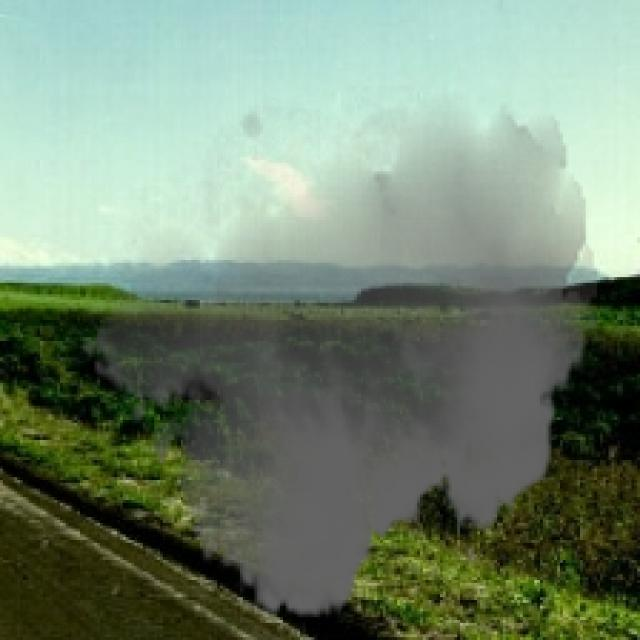smoke: (80, 86, 597, 637)
